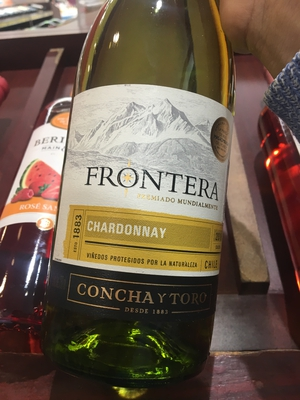frontera chardonnay: (48, 16, 253, 393)
